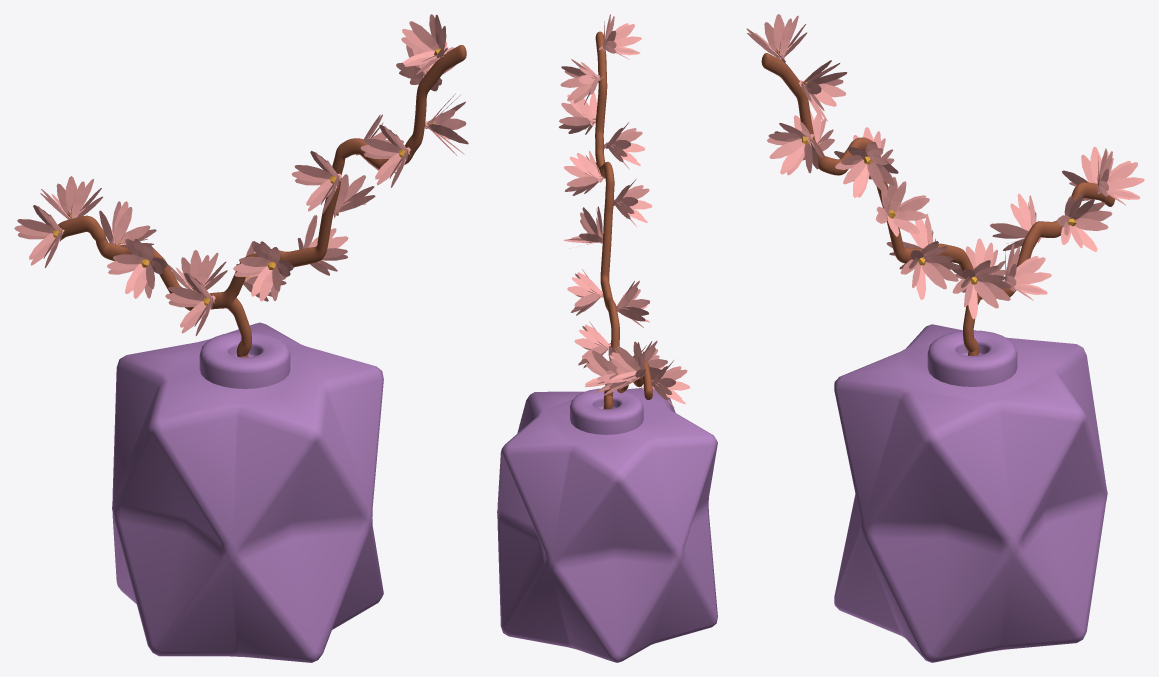
Rendered from flower pot.fbx.
3 renders of one model, left to right at view 1: azimuth 30°, elevation 25°; view 2: azimuth 150°, elevation 25°; view 3: azimuth 270°, elevation 25°, orthographic. The views are drawn at different scales.
Visible parts, largest first — view 1: star vase, flowers, stebel; view 2: star vase, flowers, stebel; view 3: star vase, flowers, stebel.
Part boxes in pixels (x1,y1,x2,y2): star vase: [112, 322, 383, 662]; flowers: [14, 14, 468, 335]; stebel: [58, 45, 466, 357]; star vase: [497, 387, 717, 662]; flowers: [559, 14, 690, 407]; stebel: [595, 31, 652, 409]; star vase: [834, 324, 1107, 662]; flowers: [746, 14, 1144, 319]; stebel: [761, 53, 1115, 355].
Size of the model in its own units: 240 by 510 by 284.
